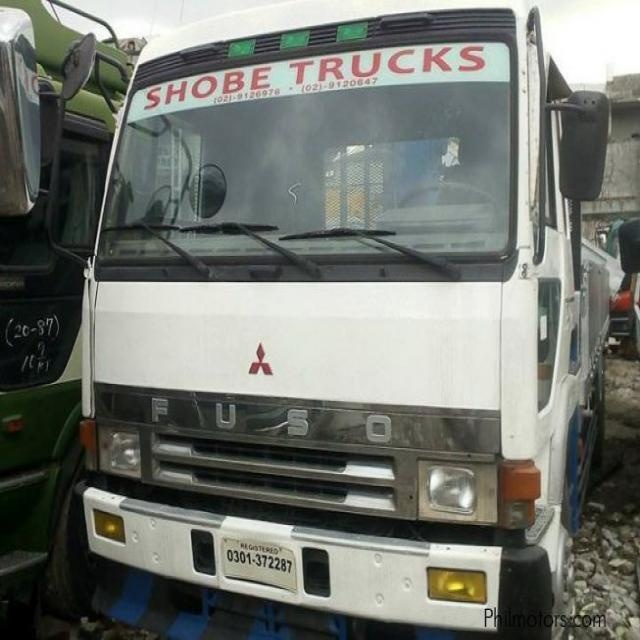Truck: (80, 0, 616, 639)
